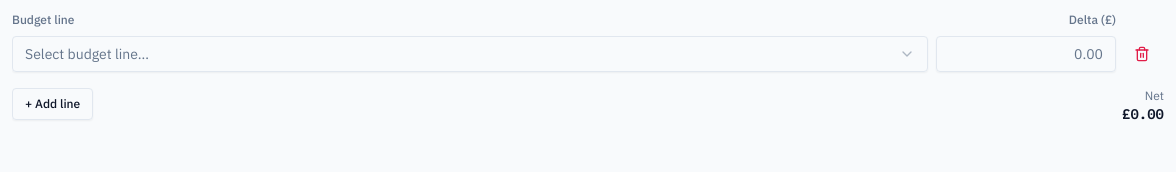
Test: <BCRLineEditor/> — 2.6-FE-fix › Bug 3: picker uses line_description when present
Click the dropdown with test id "bcr-line-editor-line-0": (87, 54) [12,36,928,72]
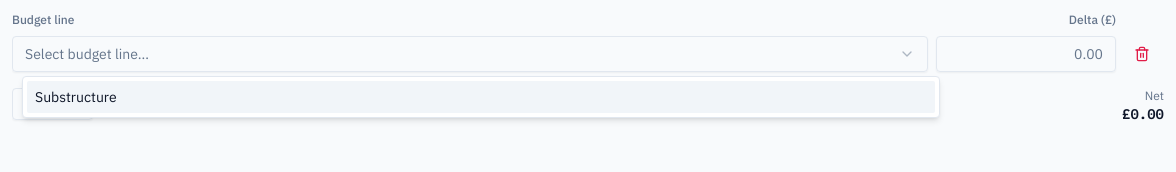
Expected: the text "Substructure" is shown, [35,88,117,106]
